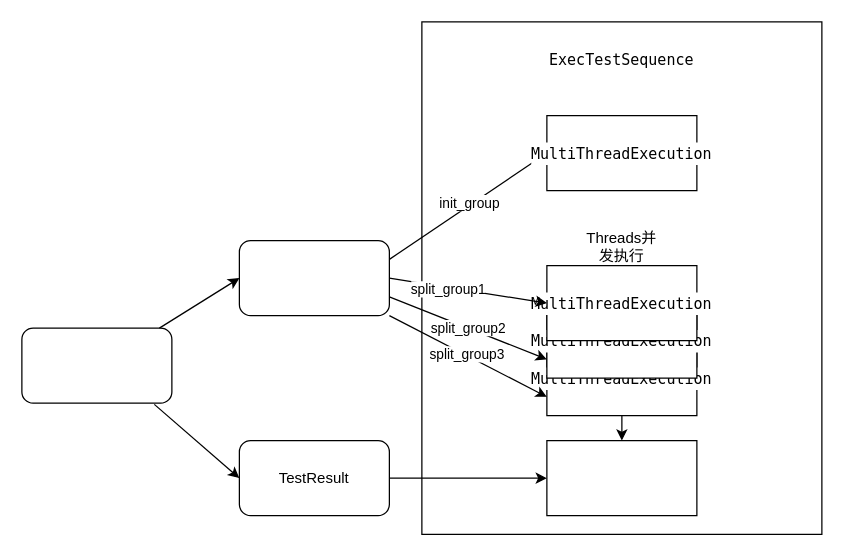
This 844x556 diagram has some shape labels left out. Each missing label, with the centre of its shape:
"CaseReader" belongs at point (96, 365).
"TestSequence" belongs at point (313, 277).
"回写测试结果" belongs at point (621, 477).
